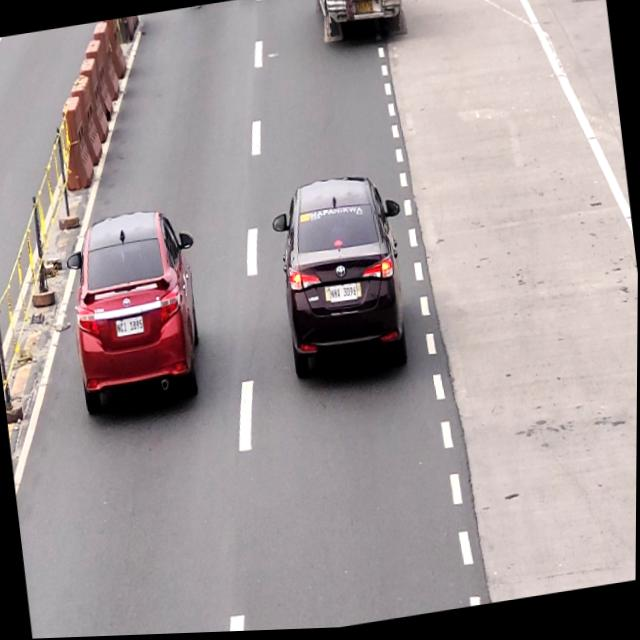Car: (272, 172, 412, 392), (64, 208, 209, 417)
License-Plate: (326, 281, 363, 308), (114, 314, 148, 339)
Truck: (313, 0, 410, 52)
